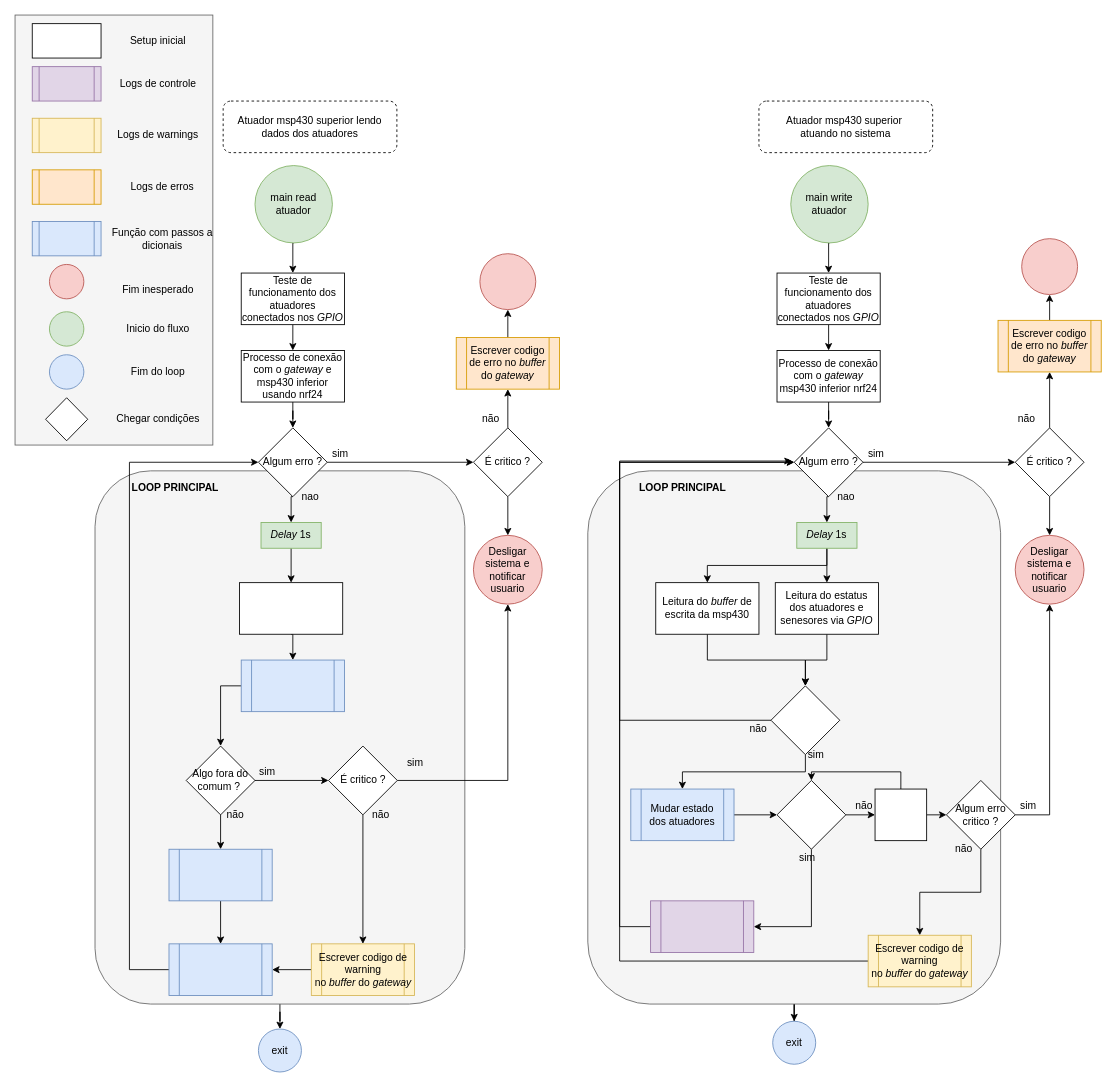
Some shapes in this 1116 by 1087 pixel diagram are drawn without their labels. Each missing label, with the centre of its shape:
Estado mudou ?: the point at 811,814
Leitura do estado dos atuadores e sensores via GPIO: the point at 291,608
Precisa atuar no sistema ?: the point at 805,720
Prepara o payload usando dicionario: the point at 220,874
Publicar dados no buffer do gateway: the point at 220,969
retornar mudança no buffer do gateway: the point at 702,926
retry 3x: the point at 900,814
Tratamento de dados e conversão: the point at 292,685
